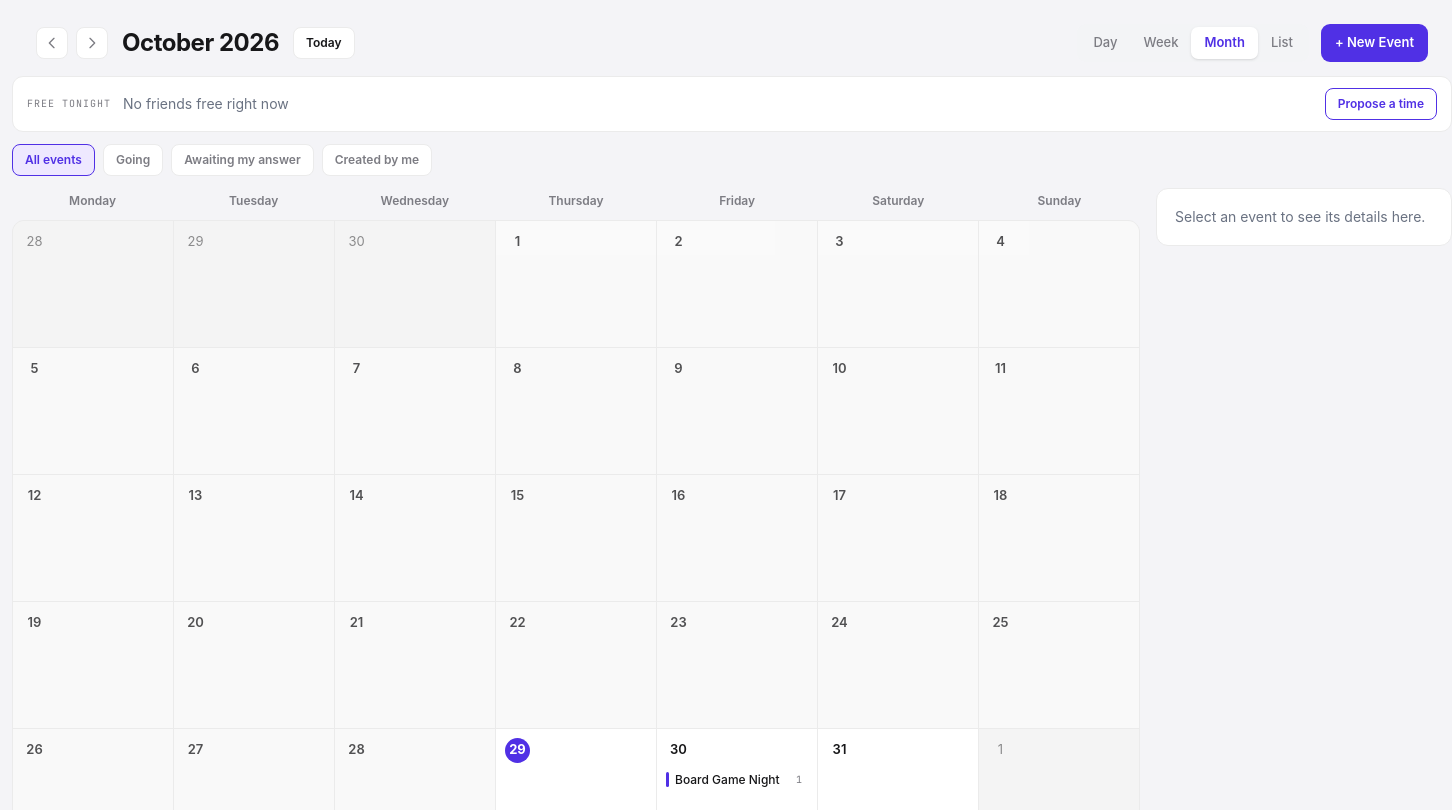
Test: Calendar › switches to the agenda list, which shows upcoming events grouped by day
Click the button "List" at x=1282, y=43, box [1258, 27, 1306, 58]
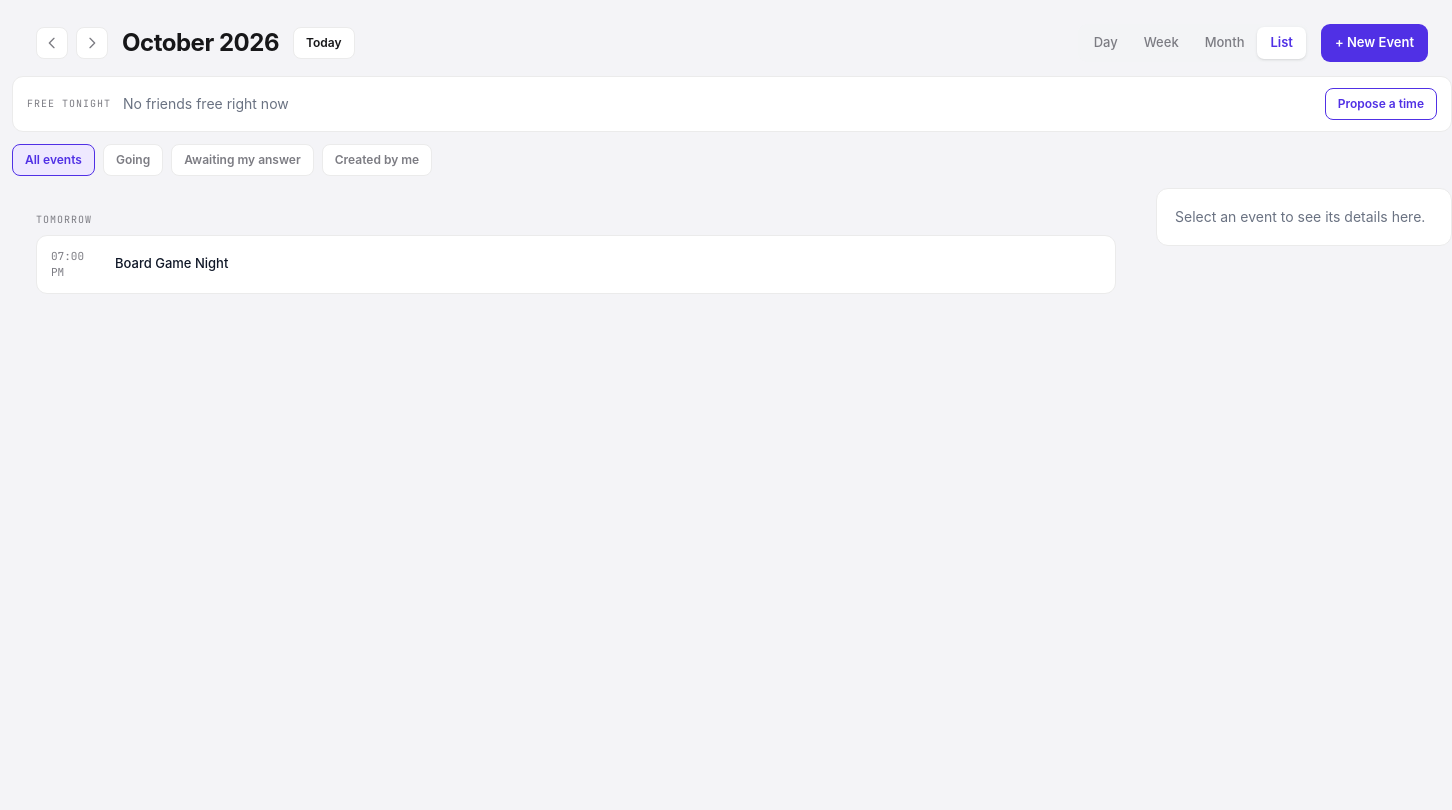
Expected: the text "Board Game Night" is shown, [115, 255, 228, 271]
Result: the heading "Tomorrow" is shown at [36, 212, 92, 226]
